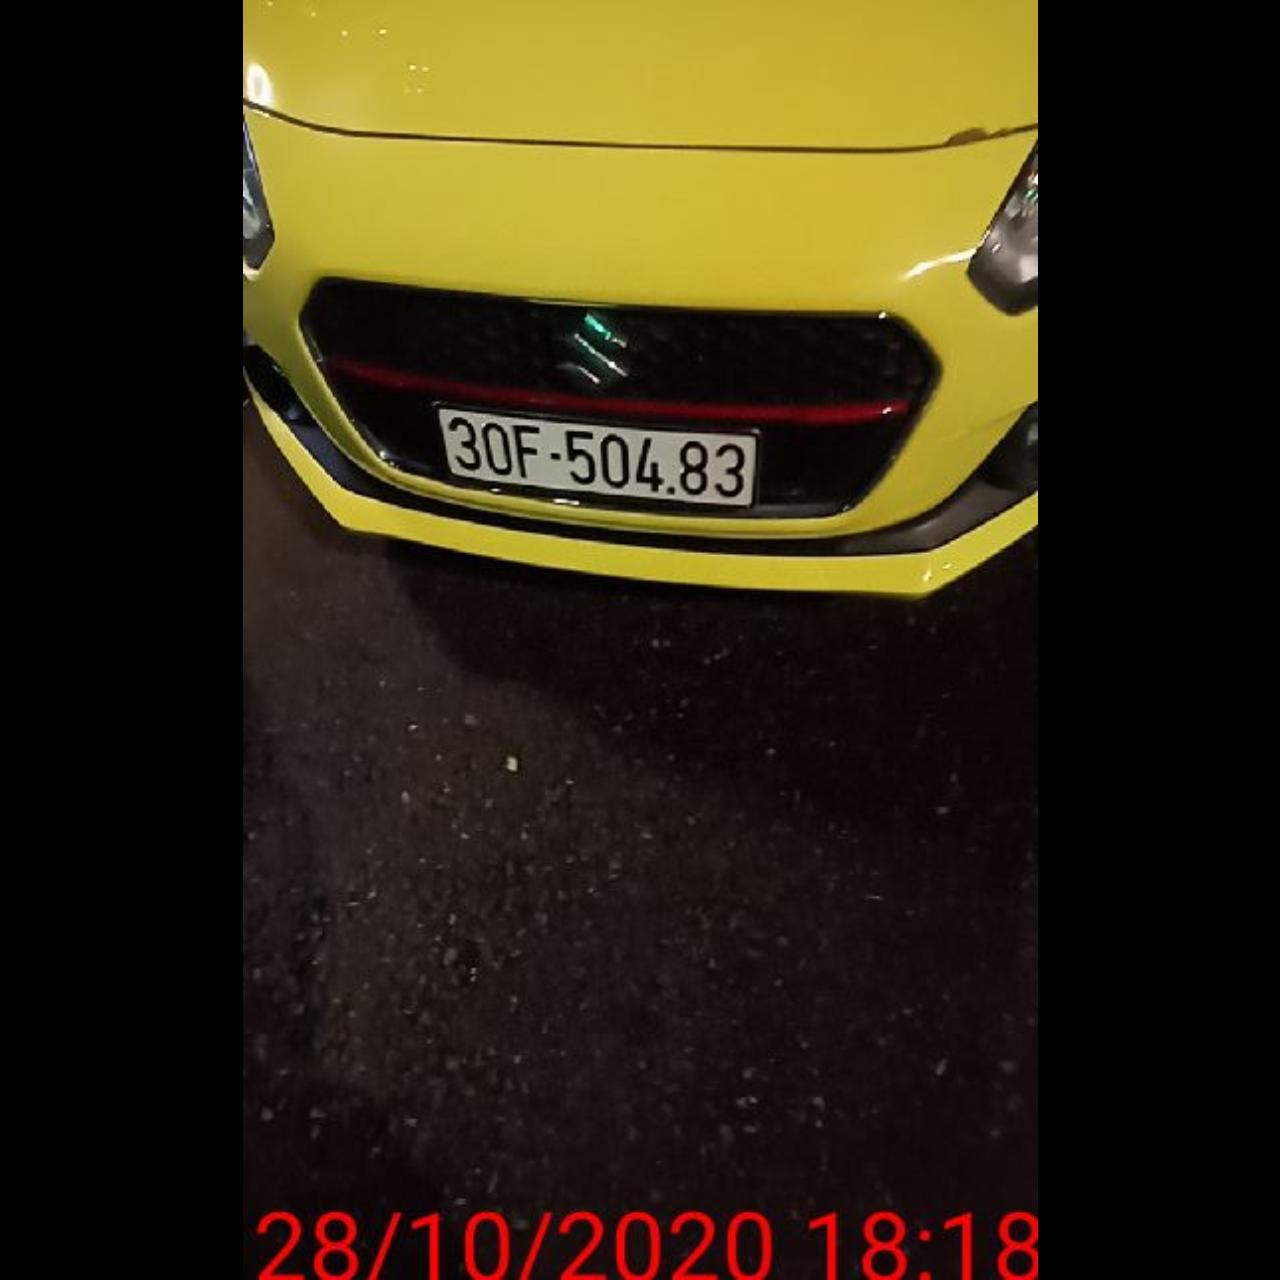bienso: (428, 398, 764, 516)
